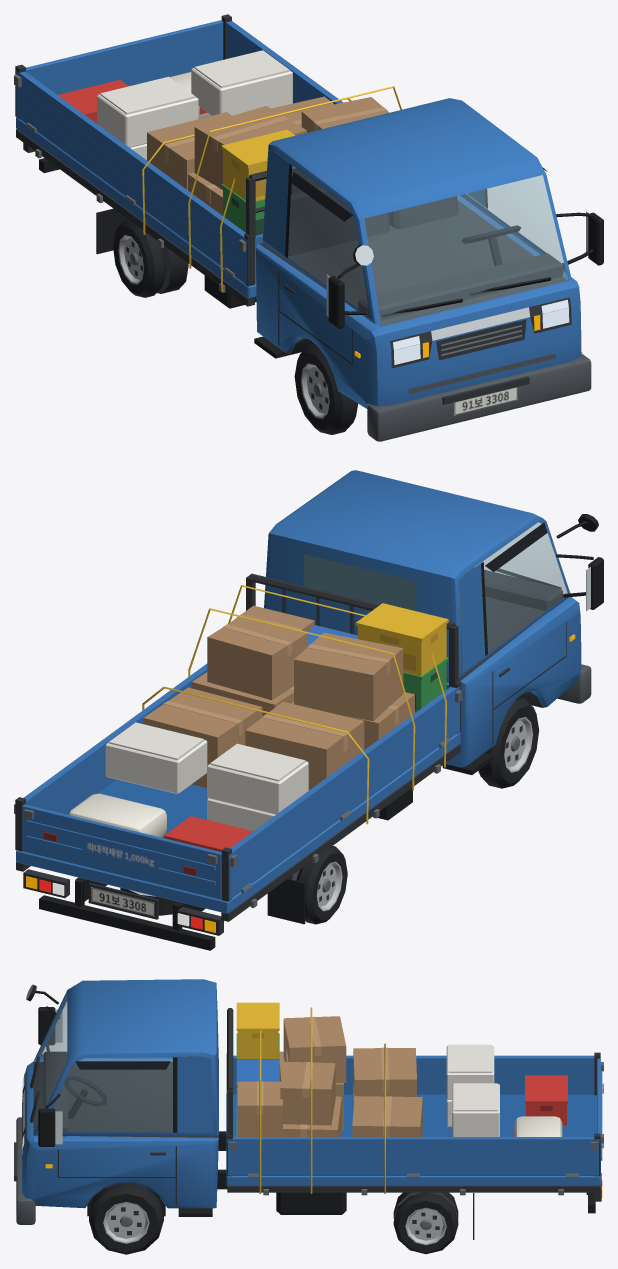
File: SC_Veh_Truck_1Ton_Cargo.gltf
The picture shows the model from 3 angles, top to bottom: view 1: azimuth 30°, elevation 25°; view 2: azimuth 150°, elevation 25°; view 3: azimuth 270°, elevation 25°; orthographic projection. The views are drawn at different scales.
Visible parts, largest first — view 1: SC_Veh_Truck_1Ton_Cargo; view 2: SC_Veh_Truck_1Ton_Cargo; view 3: SC_Veh_Truck_1Ton_Cargo.
Boxes of the visible parts, x1=… form: SC_Veh_Truck_1Ton_Cargo: x1=14, y1=14, x2=603, y2=441; SC_Veh_Truck_1Ton_Cargo: x1=14, y1=470, x2=603, y2=950; SC_Veh_Truck_1Ton_Cargo: x1=14, y1=979, x2=603, y2=1254.
Bounding box in the file's own units: 2.18 × 1.97 × 5.2.
Materials: 4 (4 with a texture image).
